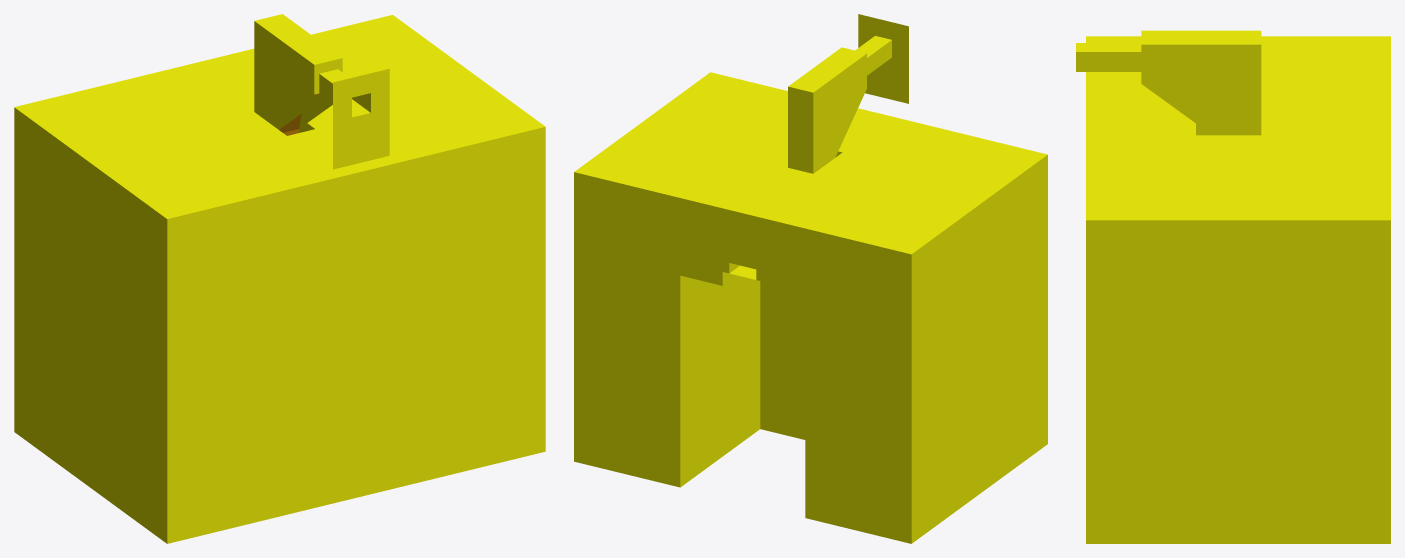
The model's file is ssl_segment7.0x275BC.collision.obj.
3 views of the same model, side by side, from view 1: azimuth 30°, elevation 25°; view 2: azimuth 150°, elevation 25°; view 3: azimuth 270°, elevation 25° (orthographic). The views are drawn at different scales.
Visible parts, largest first — view 1: ssl_segment7_275BC_normal; view 2: ssl_segment7_275BC_normal; view 3: ssl_segment7_275BC_normal.
Part boxes in pixels (x1,y1,x2,y2): ssl_segment7_275BC_normal: [14, 14, 545, 543]; ssl_segment7_275BC_normal: [574, 14, 1047, 543]; ssl_segment7_275BC_normal: [1076, 30, 1390, 543].
Bounding box in the file's own units: 5 × 5.37 × 3.61.
